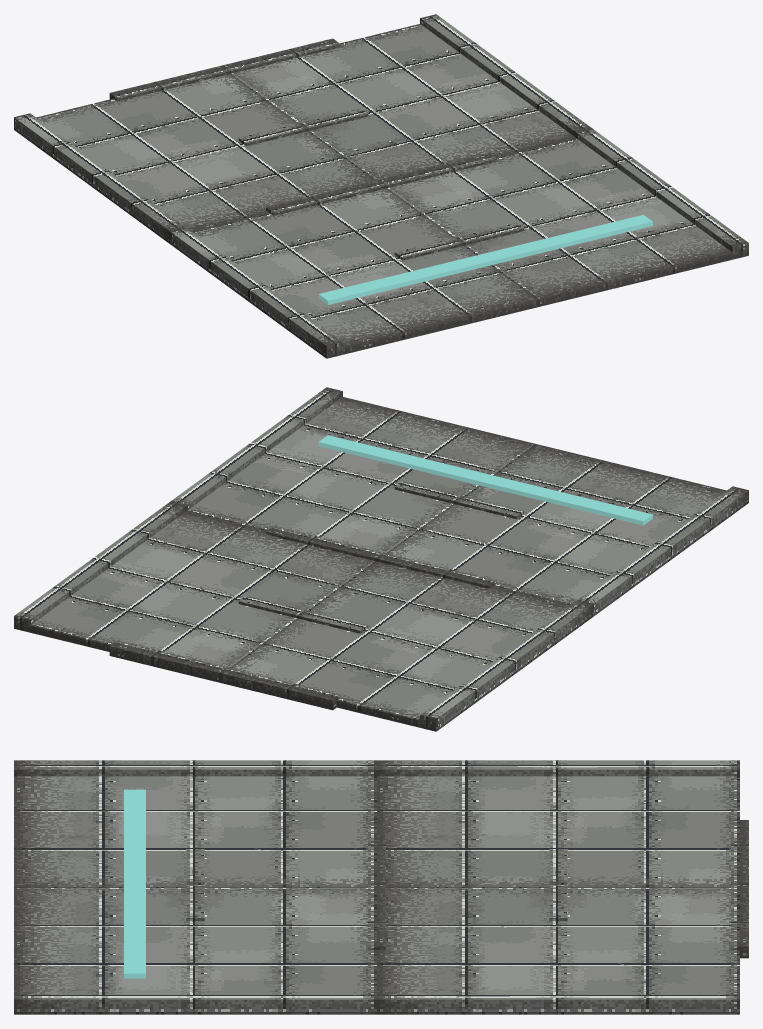
The model's file is lab_runway_measure.glb.
The picture shows the model from 3 angles, top to bottom: view 1: azimuth 30°, elevation 25°; view 2: azimuth 150°, elevation 25°; view 3: azimuth 270°, elevation 25°; orthographic projection. The views are drawn at different scales.
Parts seen in each view (by area): view 1: lab_runway_measure; view 2: lab_runway_measure; view 3: lab_runway_measure.
Part boxes in pixels (x1,y1,x2,y2): lab_runway_measure: (14,14,748,358); lab_runway_measure: (14,387,748,731); lab_runway_measure: (14,760,748,1014).
Bounding box in the file's own units: 3.12 × 0.09 × 4.05.
2 materials, 1 textured.
